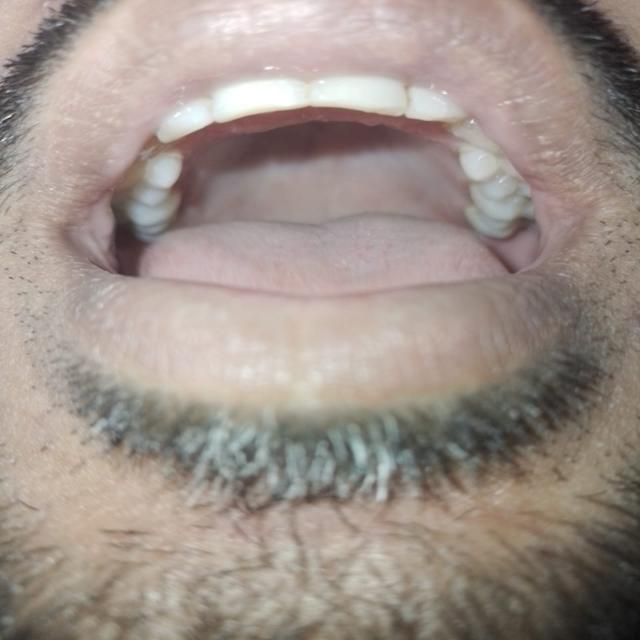No Cancer: (62, 36, 588, 349)
